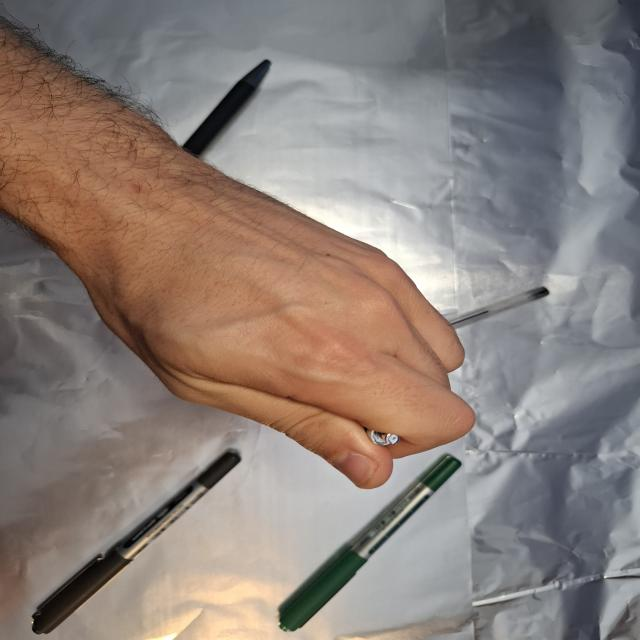glove_off: (59, 168, 478, 491)
